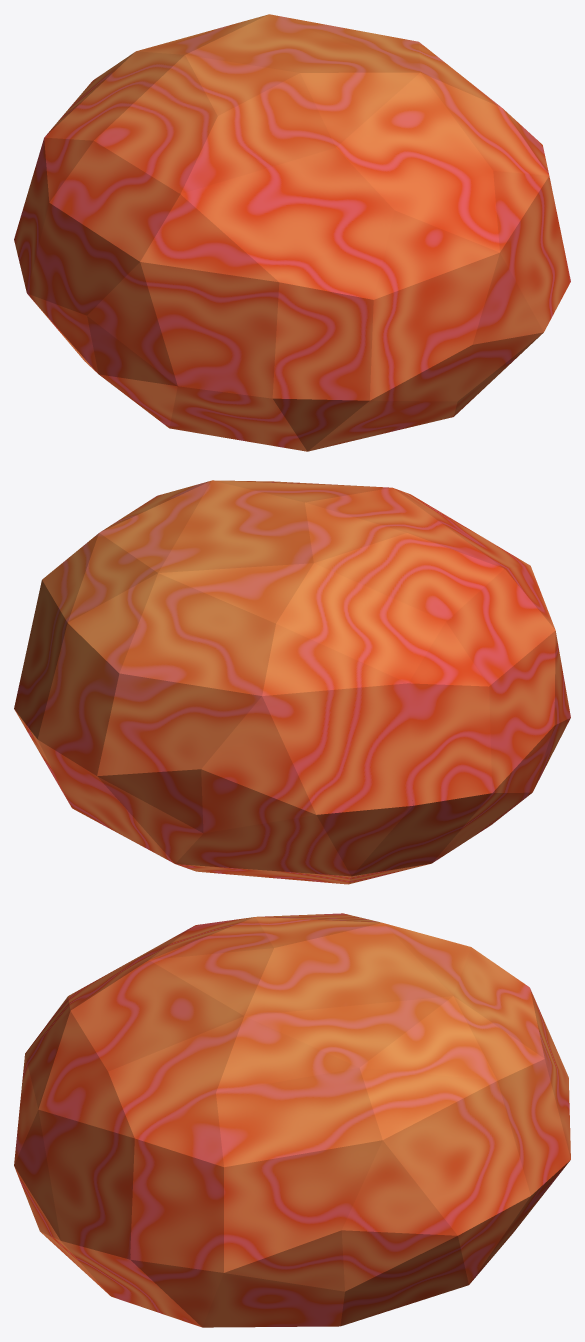
The model's file is 立方体.101.fbx.
The picture shows the model from 3 angles, top to bottom: view 1: azimuth 30°, elevation 25°; view 2: azimuth 150°, elevation 25°; view 3: azimuth 270°, elevation 25°; orthographic projection. The views are drawn at different scales.
Visible parts, largest first — view 1: 立方体.101; view 2: 立方体.101; view 3: 立方体.101.
Part boxes in pixels (x1=…): 立方体.101: x1=14, y1=14, x2=570, y2=451; 立方体.101: x1=14, y1=480, x2=570, y2=884; 立方体.101: x1=14, y1=913, x2=570, y2=1327.
Bounding box in the file's own units: 33.49 × 23.31 × 34.09.
